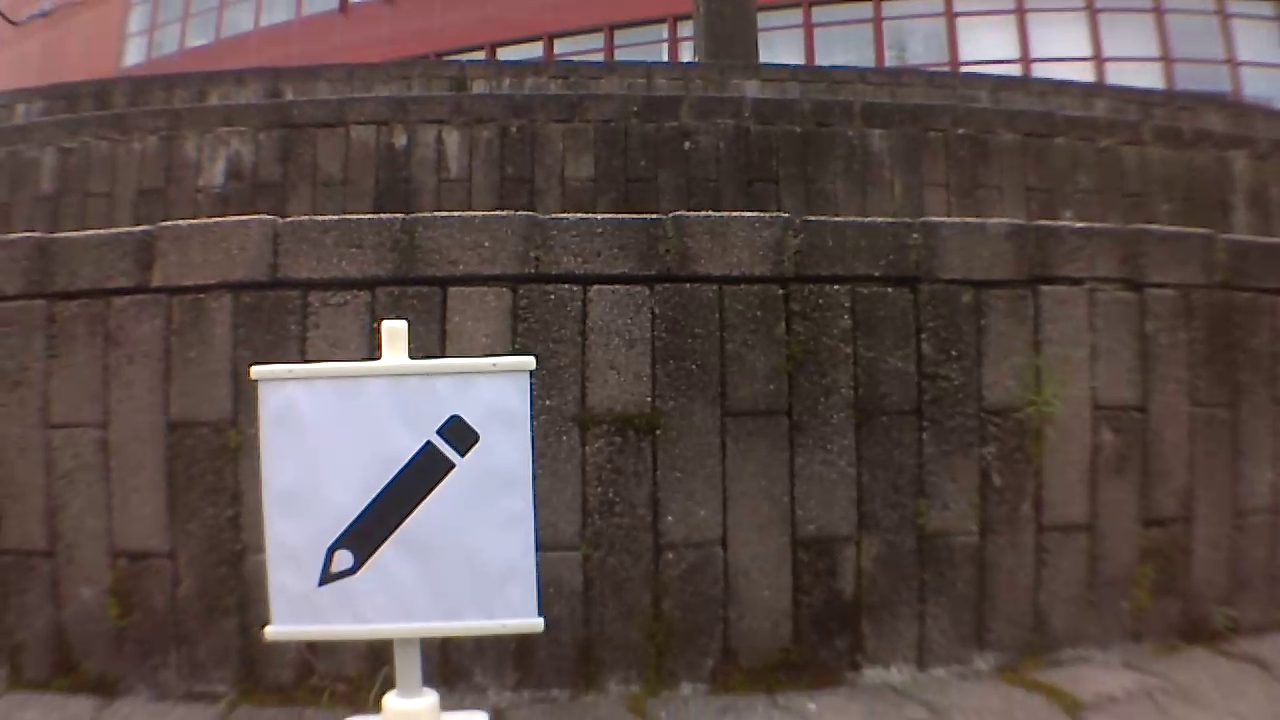pencil: (321, 410, 480, 584)
